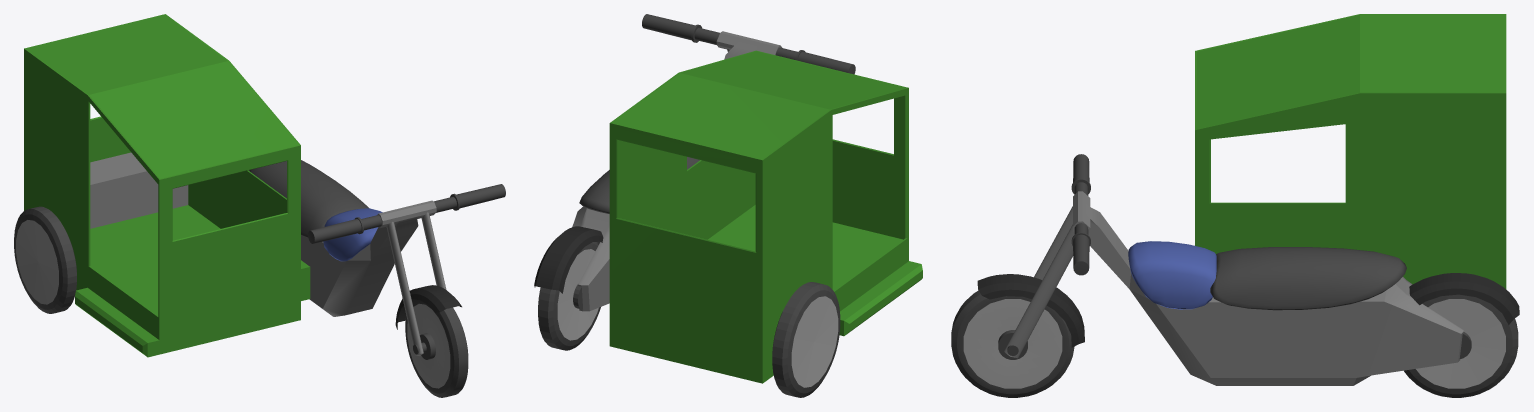
Rendered from TukTuk.fbx.
3 views of the same model, side by side, from view 1: azimuth 30°, elevation 25°; view 2: azimuth 150°, elevation 25°; view 3: azimuth 270°, elevation 25° (orthographic). The views are drawn at different scales.
Visible parts, largest first — view 1: pCube9, pCylinder20, pCylinder19; view 2: pCube9, pCylinder20, pCylinder5, pCylinder9; view 3: pCube9, pCylinder19, pCylinder5, pCylinder9.
Boxes of the visible parts, x1=… form: pCube9: x1=24, y1=14, x2=505, y2=357; pCylinder20: x1=14, y1=206, x2=76, y2=313; pCylinder19: x1=405, y1=299, x2=468, y2=397; pCube9: x1=572, y1=14, x2=922, y2=383; pCylinder20: x1=772, y1=282, x2=840, y2=397; pCylinder5: x1=538, y1=242, x2=600, y2=350; pCylinder9: x1=534, y1=226, x2=603, y2=293; pCube9: x1=977, y1=14, x2=1506, y2=385; pCylinder19: x1=951, y1=290, x2=1074, y2=397; pCylinder5: x1=1404, y1=294, x2=1518, y2=397; pCylinder9: x1=1409, y1=273, x2=1519, y2=324.
Bounding box in the file's own units: 6.64 × 4.8 × 9.15.
